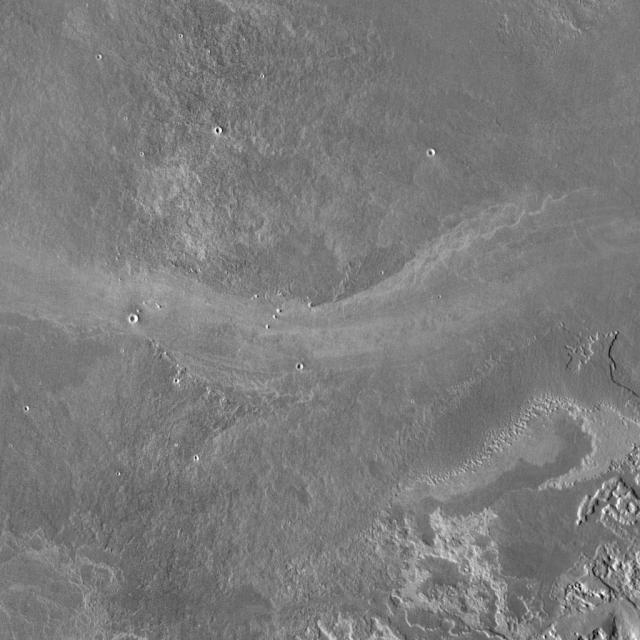crater: (136, 316, 144, 324), (428, 144, 434, 150)
